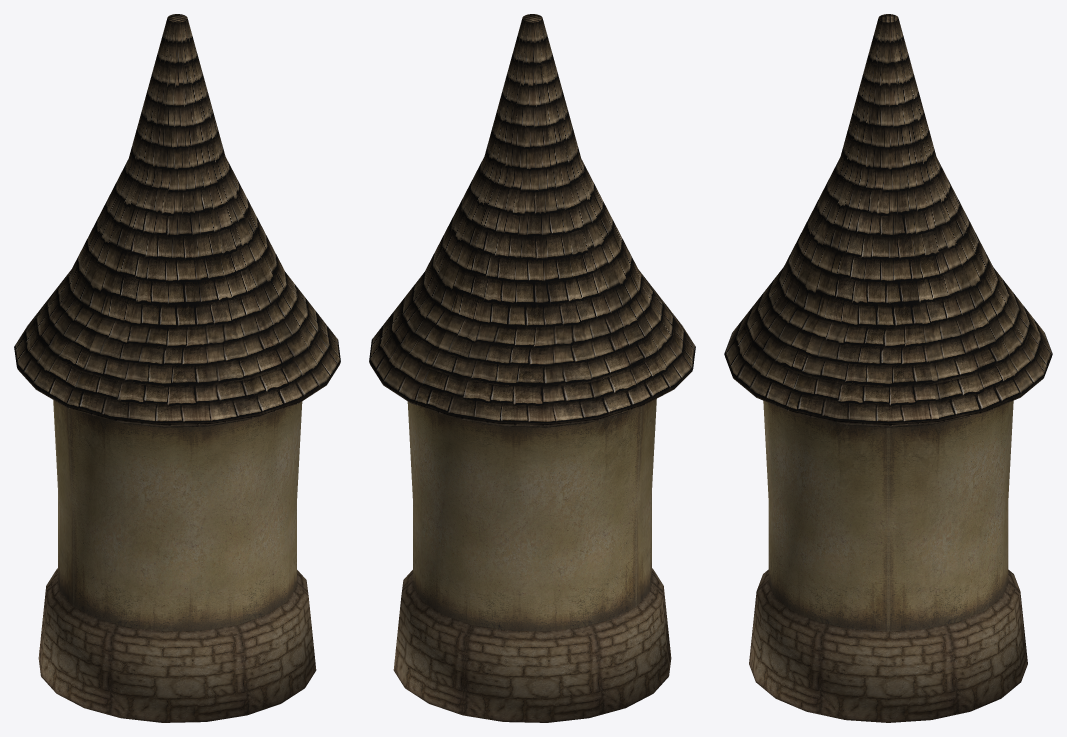
The model's file is Tower_01.fbx.
3 views of the same model, side by side, from view 1: azimuth 30°, elevation 25°; view 2: azimuth 150°, elevation 25°; view 3: azimuth 270°, elevation 25° (orthographic).
Parts seen in each view (by area): view 1: Tower_01; view 2: Tower_01; view 3: Tower_01.
Part boxes in pixels (x1,y1,x2,y2): Tower_01: [14, 14, 340, 722]; Tower_01: [369, 14, 695, 722]; Tower_01: [724, 14, 1052, 722].
Bounding box in the file's own units: 7.69 × 16.68 × 7.69.
